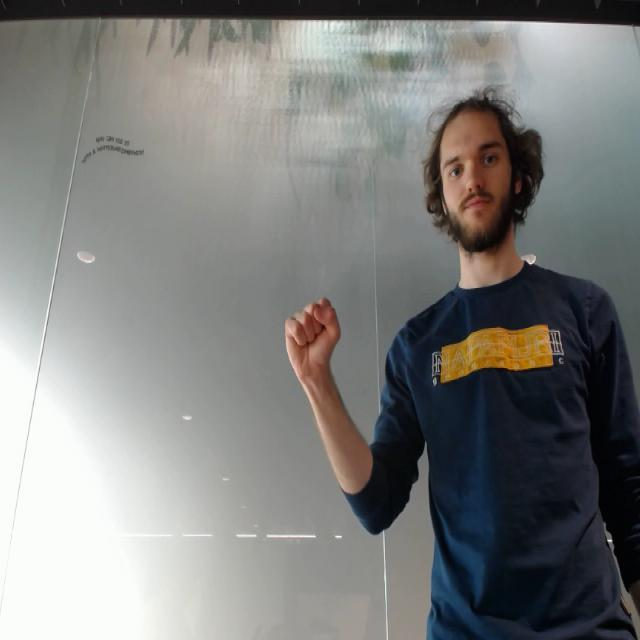stop: (282, 292, 346, 384)
